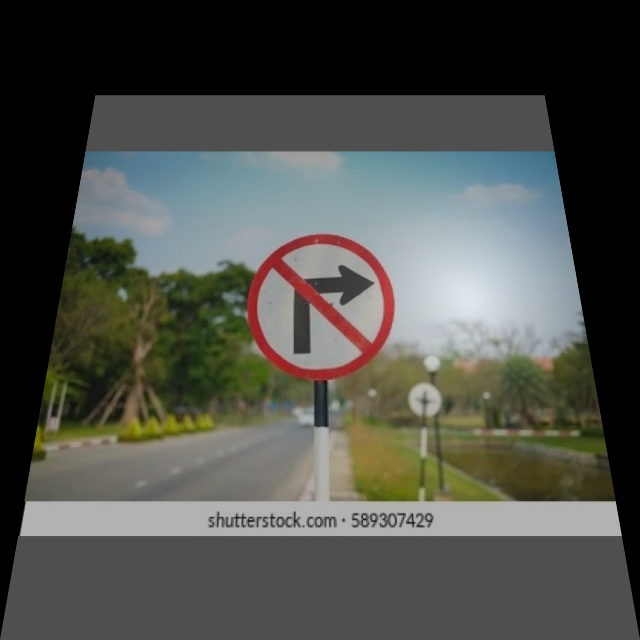Right_Turn_Prohibited: (243, 234, 400, 382)
